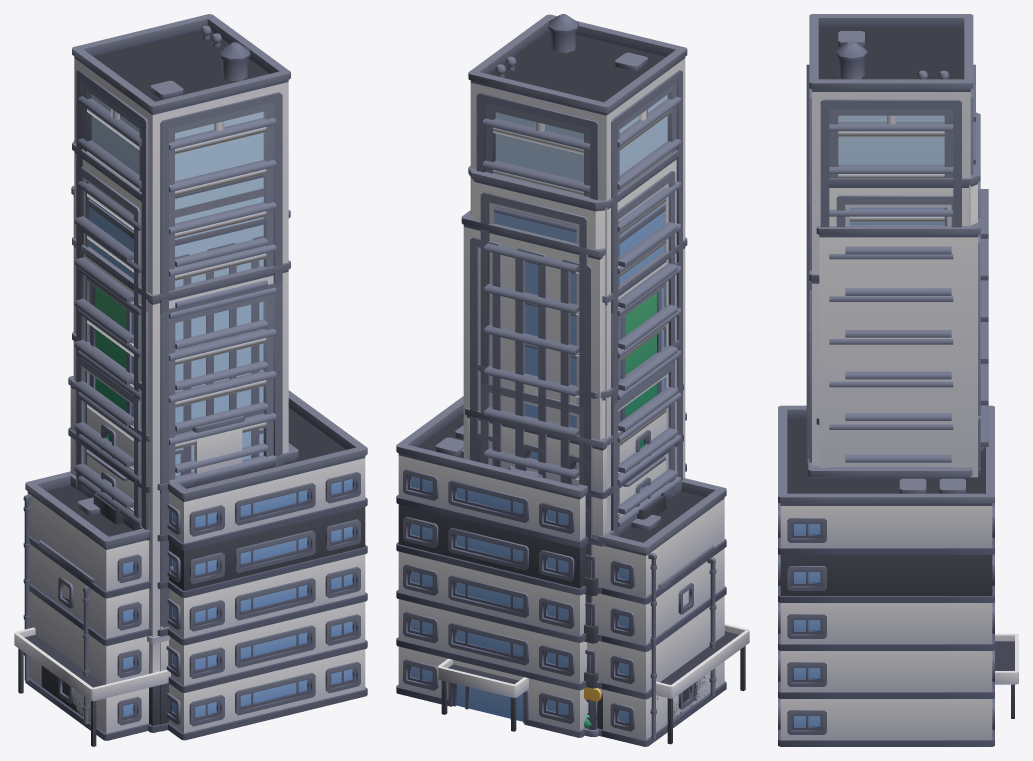
File: neon.glb
3 renders of one model, left to right at view 1: azimuth 30°, elevation 25°; view 2: azimuth 150°, elevation 25°; view 3: azimuth 270°, elevation 25°, orthographic.
Visible parts, largest first — view 1: building-n, building-skyscraper-d, building-j, building-skyscraper-c, building-skyscraper-b, building-skyscraper-e, building-k, building-skyscraper-a, building-m, building-l; view 2: building-n, building-skyscraper-d, building-skyscraper-b, building-j, building-skyscraper-e, building-m, building-skyscraper-a, building-skyscraper-c, building-k, building-i; view 3: building-n, building-skyscraper-d, building-skyscraper-e, building-skyscraper-b, building-skyscraper-c, building-l, building-skyscraper-a.
Boxes of the visible parts, x1,y1,x2,y2 form: building-n: (14,390,367,746); building-skyscraper-d: (72,14,290,731); building-j: (23,471,149,740); building-skyscraper-c: (72,237,290,732); building-skyscraper-b: (72,140,267,518); building-skyscraper-e: (71,186,290,480); building-k: (39,540,95,729); building-skyscraper-a: (72,331,267,530); building-m: (68,375,263,629); building-l: (93,443,298,731); building-n: (396,396,749,744); building-skyscraper-d: (468,14,687,530); building-skyscraper-b: (468,150,678,730); building-j: (583,478,726,746); building-skyscraper-e: (461,204,665,729); building-m: (464,383,683,736); building-skyscraper-a: (477,339,680,729); building-skyscraper-c: (525,237,687,532); building-k: (657,545,716,735); building-i: (584,477,684,729); building-n: (778,405,1018,746); building-skyscraper-d: (806,14,975,467); building-skyscraper-e: (816,218,980,477); building-skyscraper-b: (808,112,988,462); building-skyscraper-c: (806,270,953,468); building-l: (808,447,985,479); building-skyscraper-a: (808,368,988,457).
Bounding box in the file's own units: 2.32 × 5.47 × 1.82.
1 material, 1 textured.
